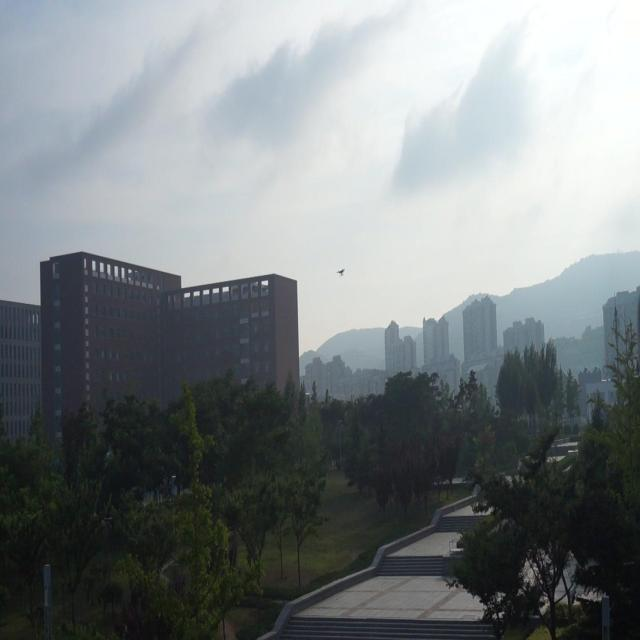drone: (338, 266, 343, 276)
